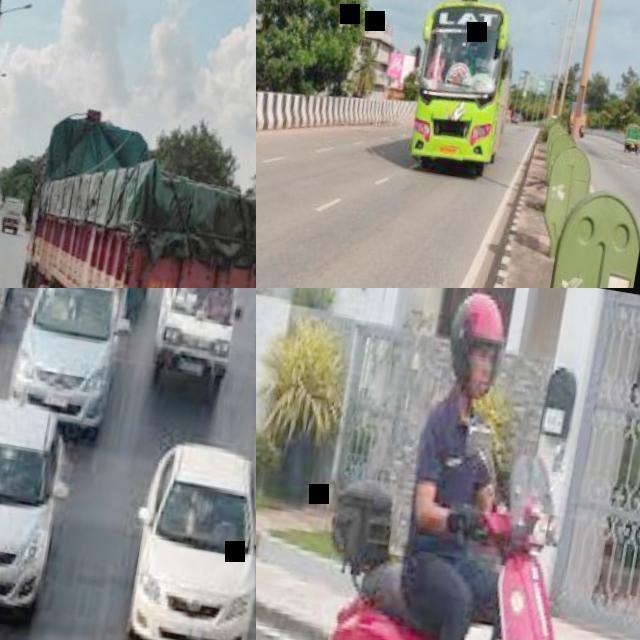car: (130, 442, 260, 639), (411, 0, 513, 176), (0, 342, 62, 627), (21, 288, 115, 428), (155, 287, 237, 393)
